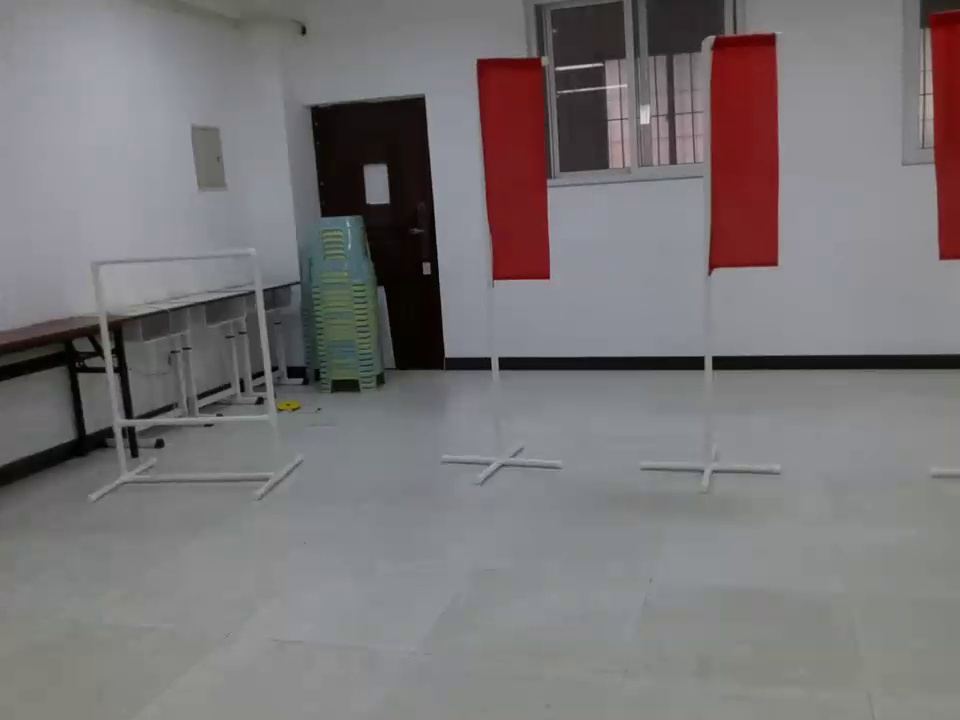qi: (704, 33, 777, 294), (473, 53, 544, 291), (926, 15, 960, 279)
